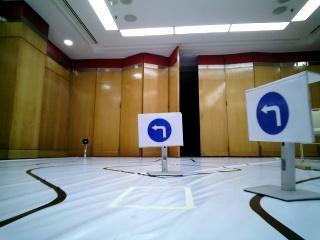left: (251, 80, 307, 136), (140, 114, 186, 143)
